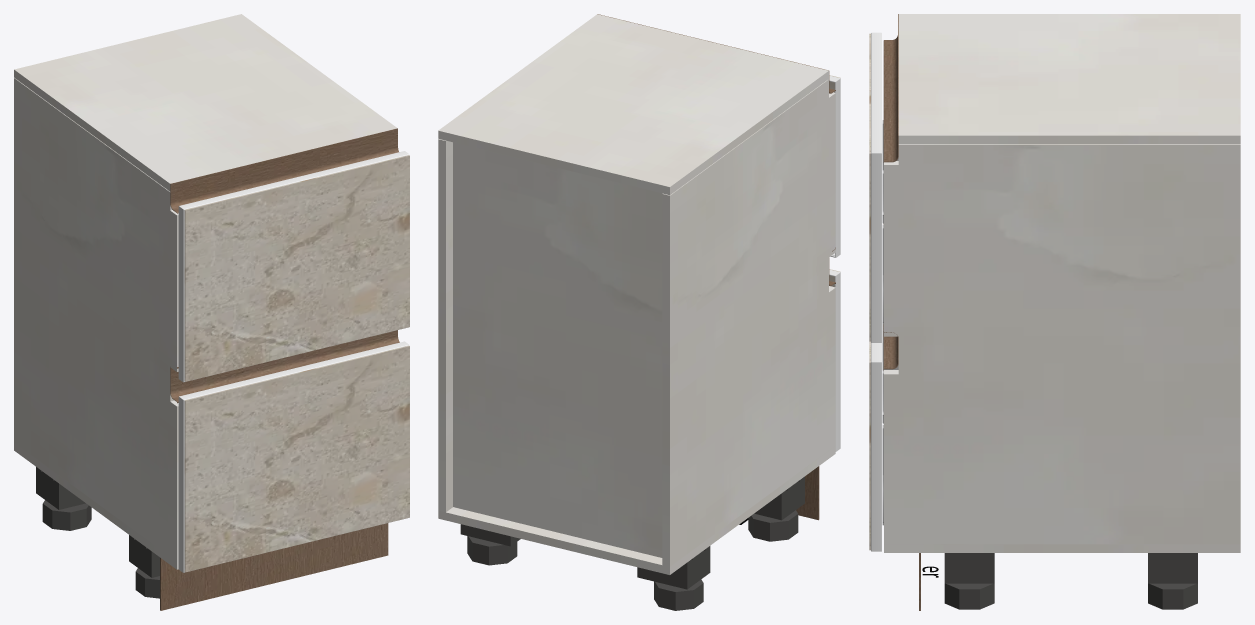
3 renders of one model, left to right at view 1: azimuth 30°, elevation 25°; view 2: azimuth 150°, elevation 25°; view 3: azimuth 270°, elevation 25°, orthographic. The views are drawn at different scales.
Size of what is drawn, in the model's own units: 0.45 by 0.82 by 0.5809.
7 materials, 3 textured.
